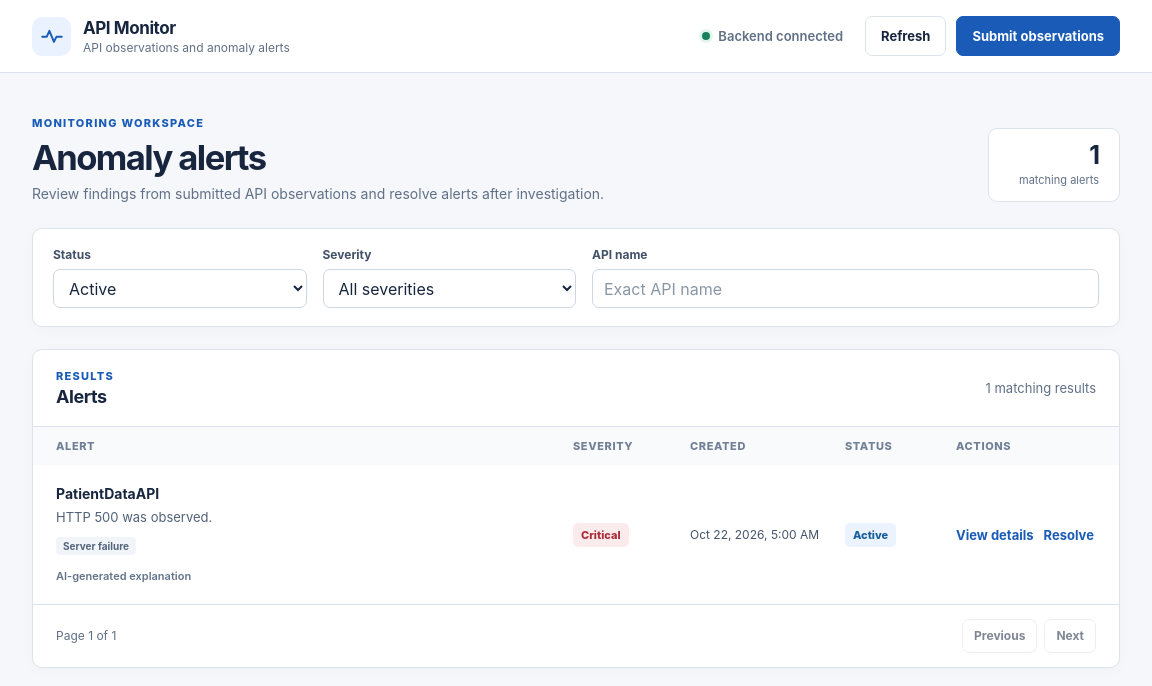
Test: resolution succeeds only after the server confirms it and moves to Resolved
The image size is (1152, 686).
Check: the text "PatientDataAPI" is shown, box [56,486,159,502]
Step 1. Click the button "Resolve" → (1069, 534), box [1044,522,1094,546]
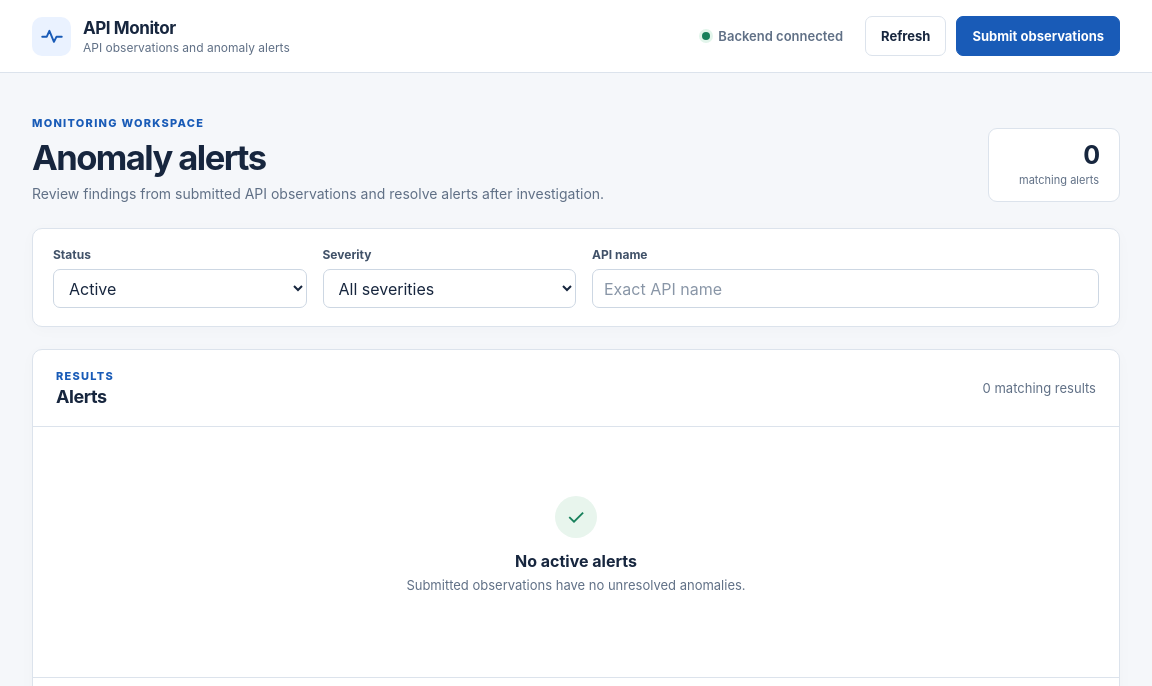
Check: the text "No active alerts" is shown, box [515,552,637,572]
Step 2. Select "Resolved" in the dropdown labelled "Status" → (180, 289), box [53,270,306,308]
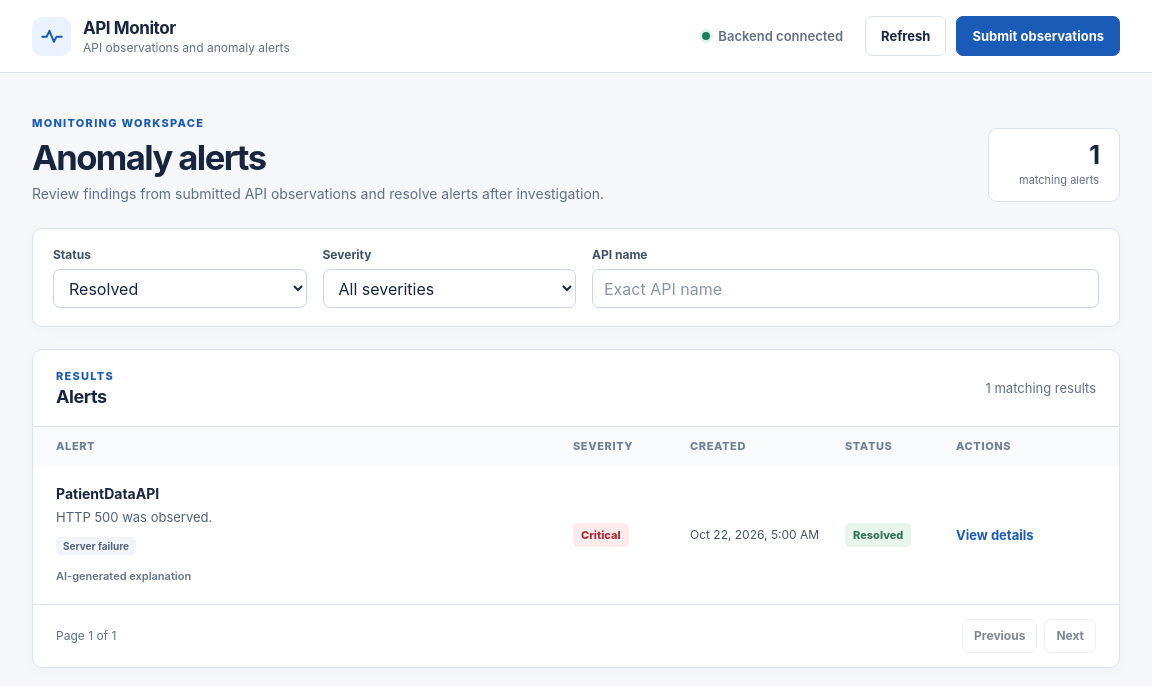
Check: the text "resolved" is shown, box [845,522,911,546]
Check: the text "PatientDataAPI" is shown, box [56,486,159,502]
